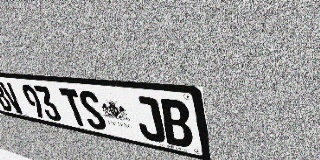3: (33, 85, 63, 122)
9: (19, 84, 48, 119)
B: (158, 98, 194, 149), (0, 81, 14, 112)
J: (131, 95, 167, 144)
S: (76, 90, 108, 132)
T: (58, 88, 90, 128)
V: (0, 82, 26, 115)
